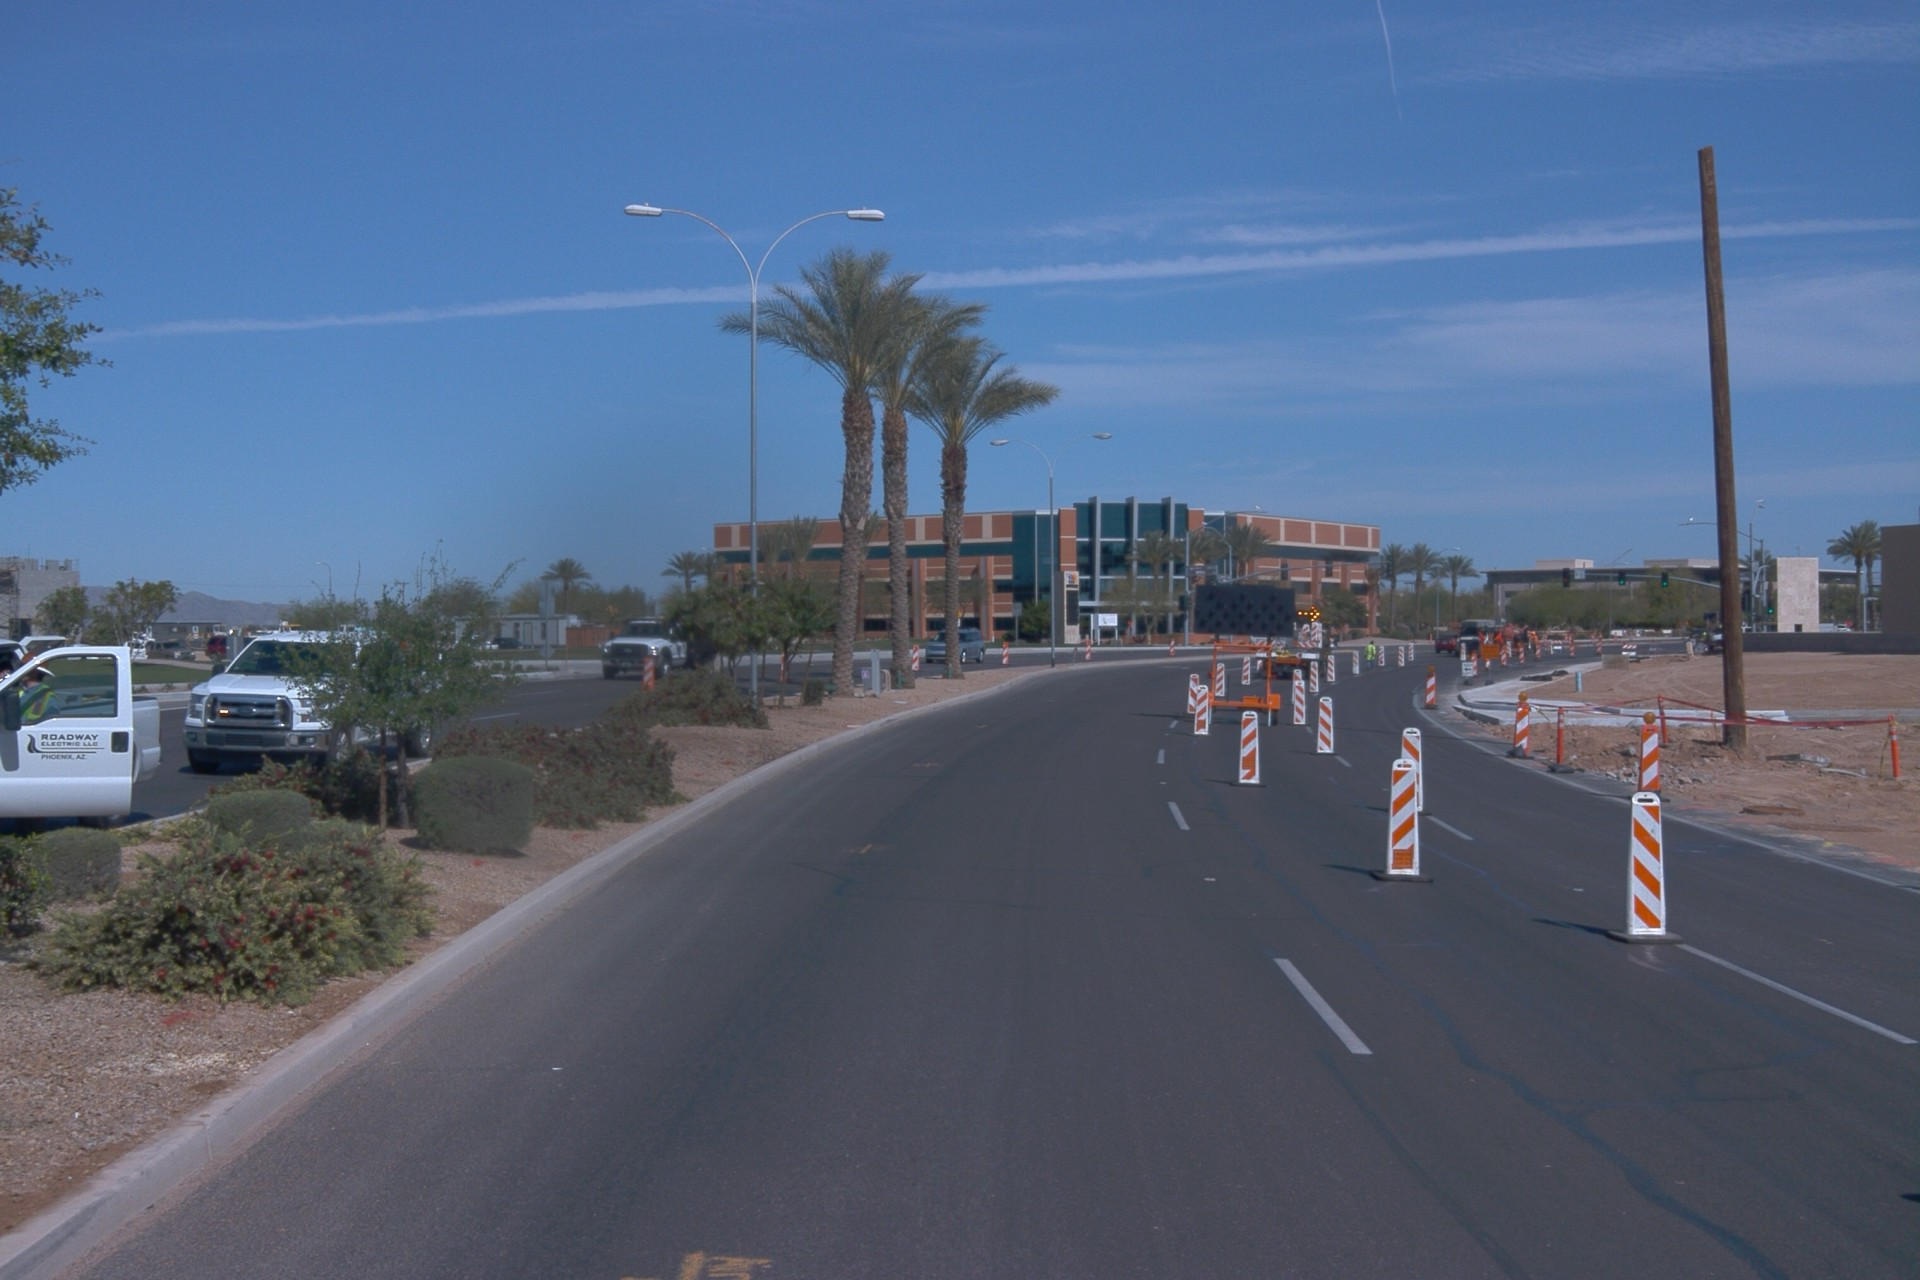TYPE_PEDESTRIAN: (1362, 640, 1377, 671)
TYPE_VEHICLE: (157, 635, 445, 788), (0, 663, 161, 831), (1184, 576, 1312, 737), (594, 594, 750, 690), (1250, 621, 1341, 681), (1453, 618, 1538, 665), (925, 624, 986, 664), (1708, 618, 1761, 660), (204, 631, 257, 670), (144, 634, 199, 664), (105, 626, 156, 650), (490, 632, 537, 654), (444, 638, 495, 653), (1432, 629, 1461, 655), (115, 640, 149, 661)
